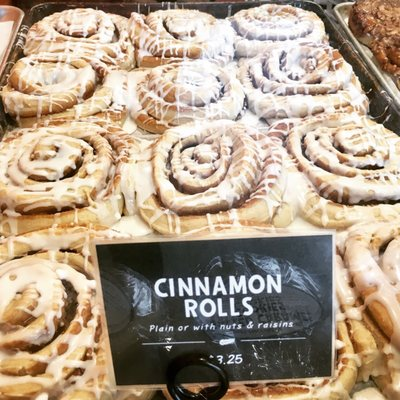salad: (0, 256, 114, 400), (153, 120, 285, 218), (0, 127, 122, 217), (285, 116, 400, 206), (341, 216, 400, 358)
sandwich: (349, 0, 400, 89)
